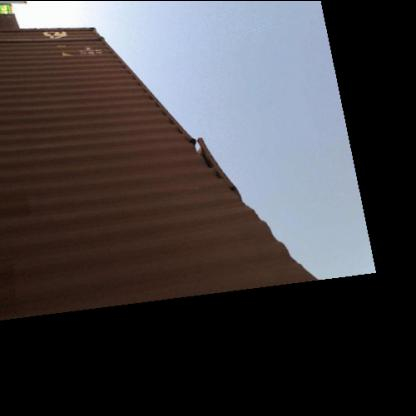Damage: (175, 105, 254, 215), (0, 21, 110, 53)
